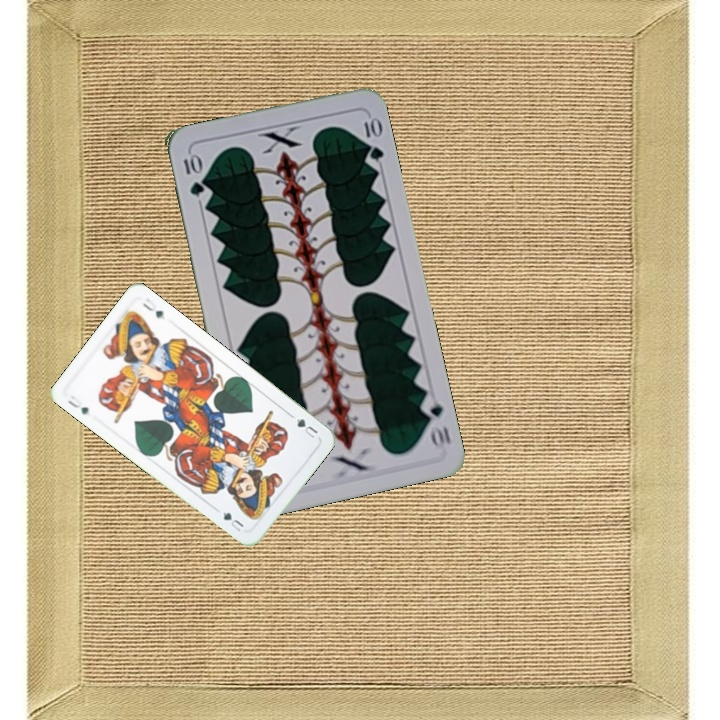G10: (417, 394, 453, 451), (179, 150, 207, 199)
GU: (292, 414, 320, 441), (63, 391, 91, 417)
